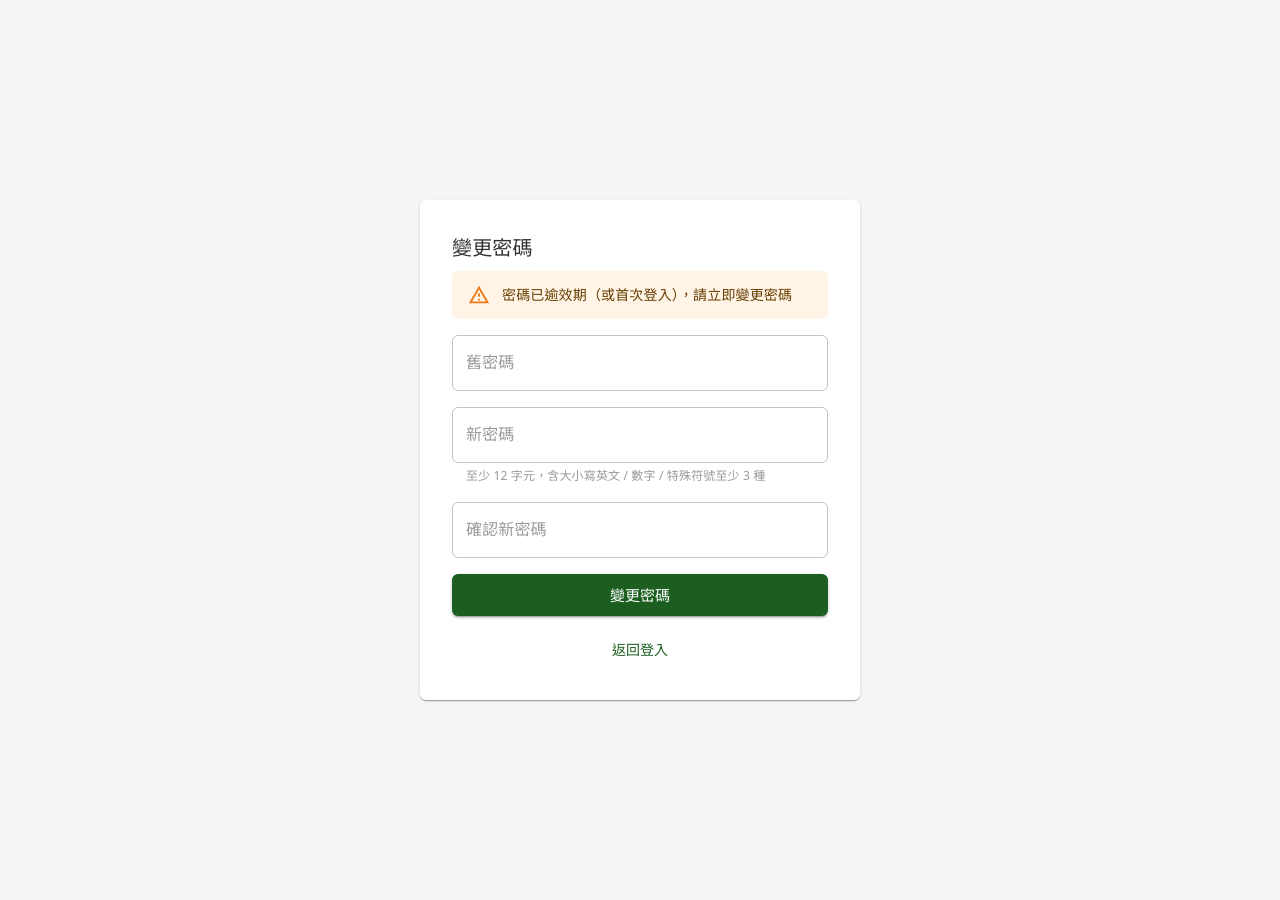
Scenario: ForceChangePasswordShell 強制變更密碼（US8 填實提交） › 管理者密碼到期（#623）：提示與前端檢核依本人適用門檻 12 字元，9 字元被擋下、不送出
Expected: the text "至少 12 字元，含大小寫英文 / 數字 / 特殊符號至少 3 種" is shown, [466,466,814,486]
Type "Abcd1234" into the password field labelled "舊密碼" at (640, 363), box [452,335,828,391]
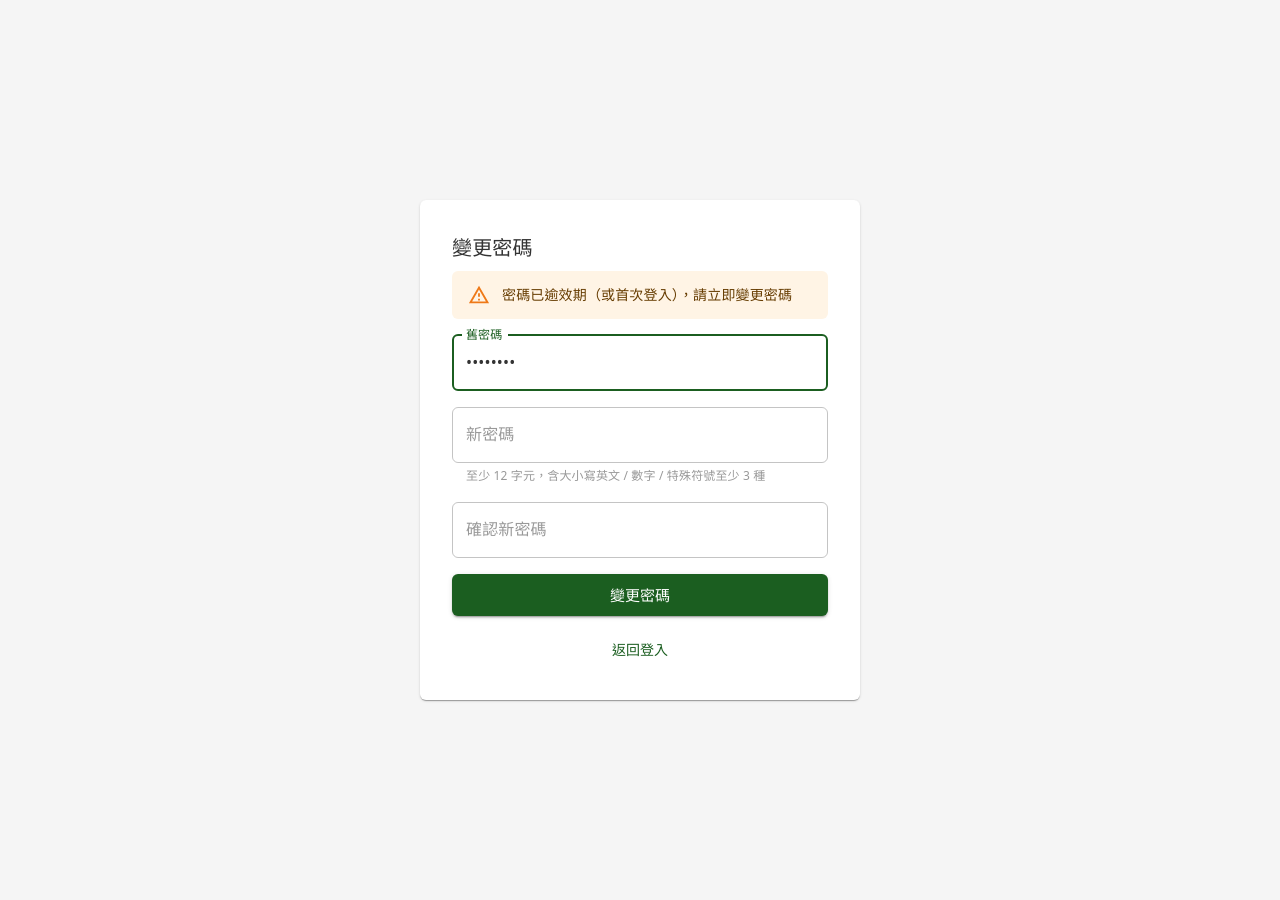
Type "Abcd1234!" into the password field labelled "新密碼" at (640, 435), box [452,407,828,463]
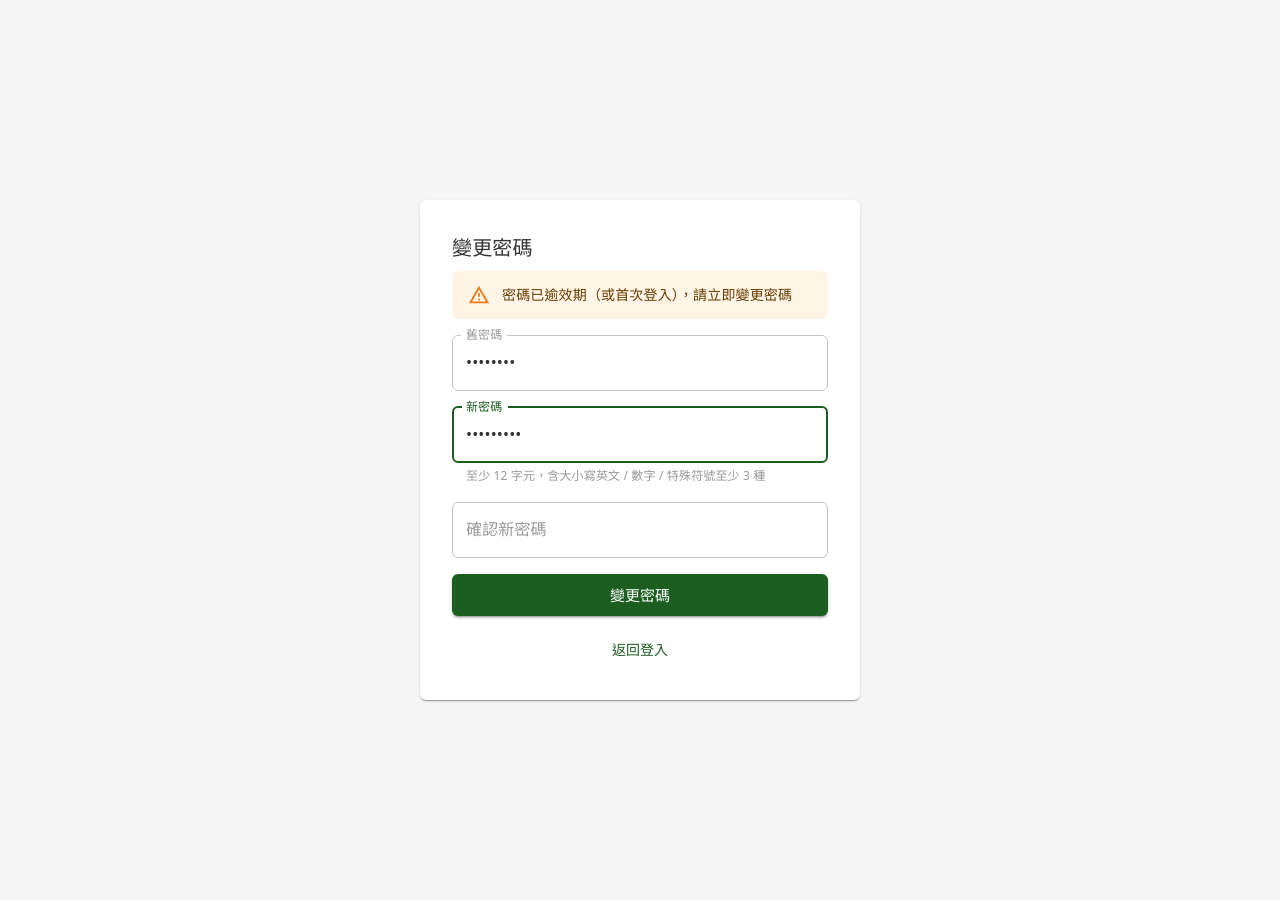
Type "Abcd1234!" into the password field labelled "確認新密碼" at (640, 530), box [452,502,828,558]
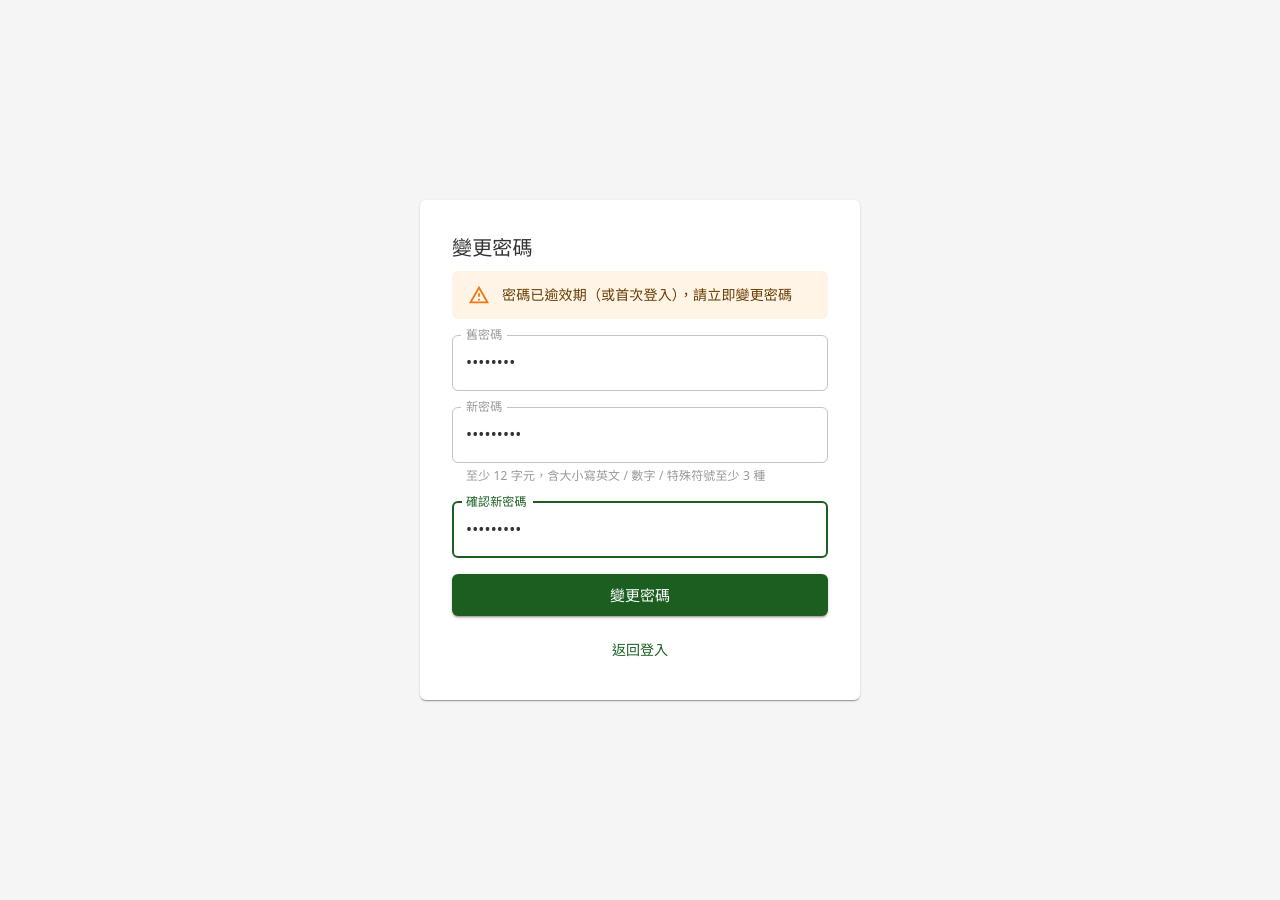
Click the button "變更密碼" at (640, 595), box [452,574,828,616]
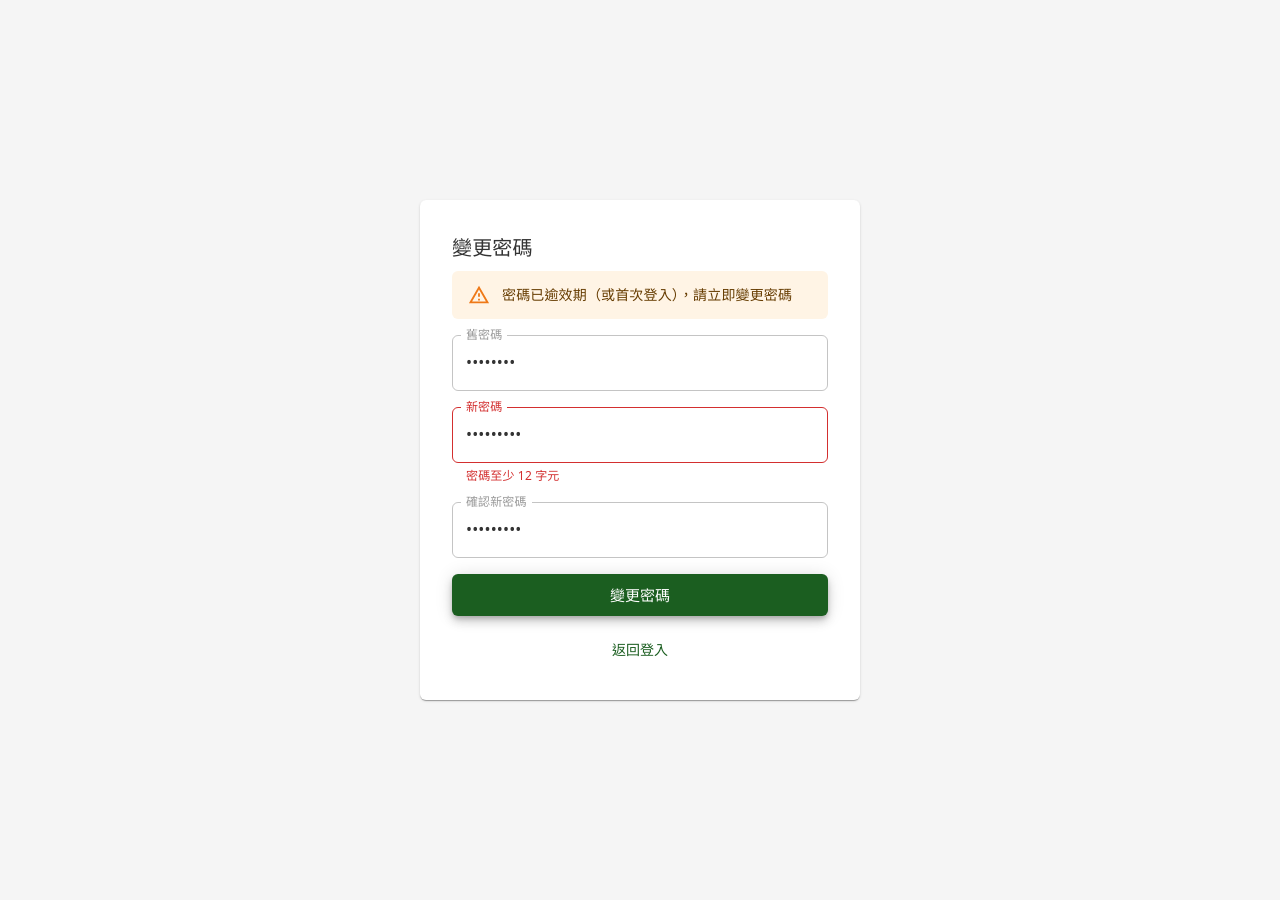
Result: the text "密碼至少 12 字元" is shown at [466,467,560,484]
